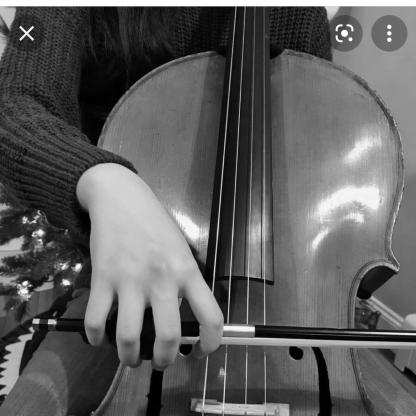good: (60, 226, 240, 362)
